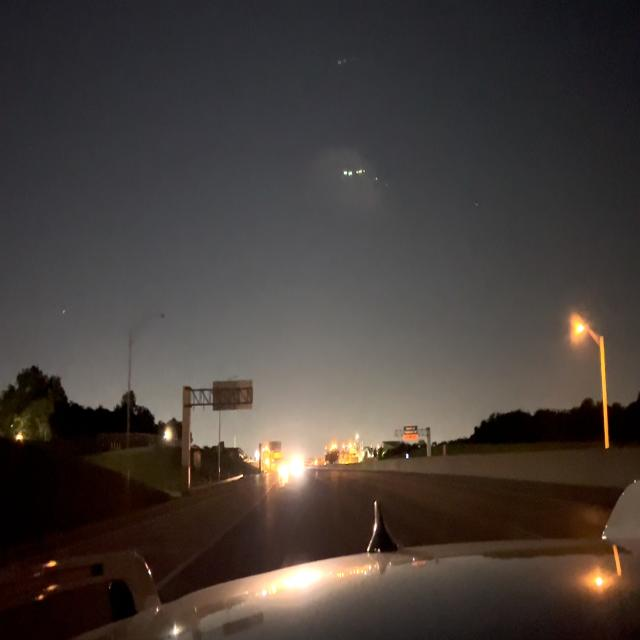back-of-sign: (213, 382, 254, 409)
